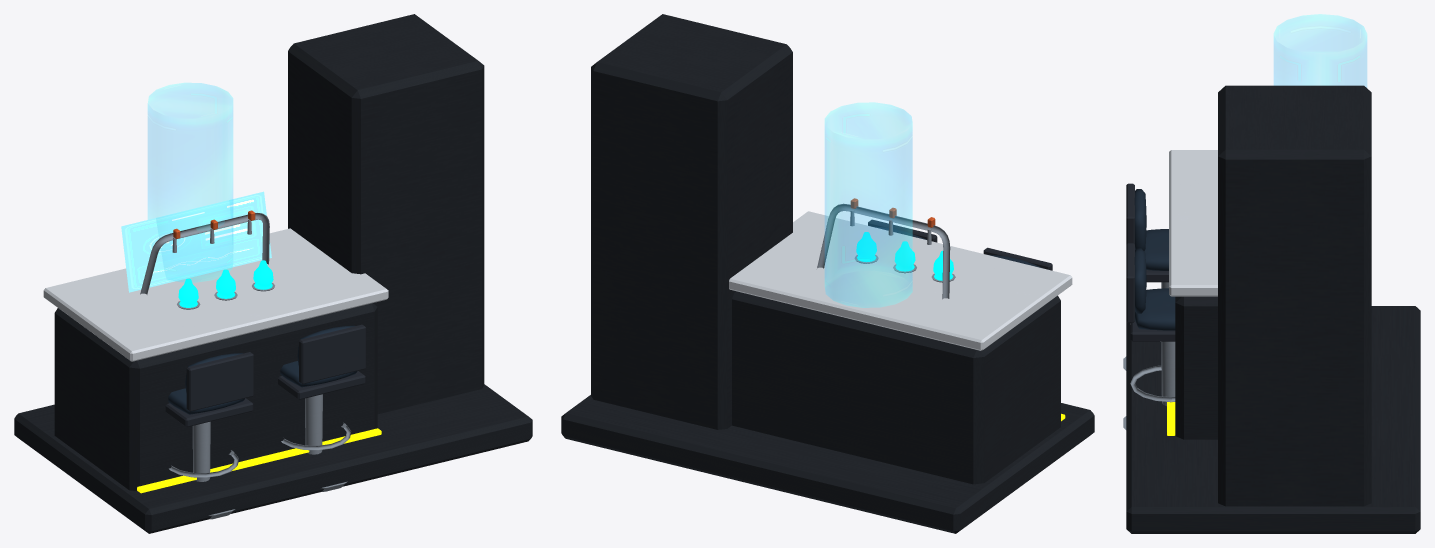
File: lounge_bar_r1_03.glb
3 renders of one model, left to right at view 1: azimuth 30°, elevation 25°; view 2: azimuth 150°, elevation 25°; view 3: azimuth 270°, elevation 25°, orthographic. The views are drawn at different scales.
Visible parts, largest first — view 1: Lounge03_CurvedStargazerGunmetalHull, Lounge03_AerospaceWhiteCounter, Lounge03_TranslucentLevitationColumnAndTower, Lounge03_OLEDCelestialConsole, Lounge03_CharcoalBolsters, Lounge03_MachinedSteelSiphonAndPedestals, Lounge03_OrbitalNavyBarstools, Lounge03_AmberDecantersAndFootrail, Lounge03_CyanSpheresAndGlasses; view 2: Lounge03_CurvedStargazerGunmetalHull, Lounge03_AerospaceWhiteCounter, Lounge03_TranslucentLevitationColumnAndTower, Lounge03_MachinedSteelSiphonAndPedestals, Lounge03_CyanSpheresAndGlasses, Lounge03_CharcoalBolsters; view 3: Lounge03_CurvedStargazerGunmetalHull, Lounge03_AerospaceWhiteCounter, Lounge03_TranslucentLevitationColumnAndTower, Lounge03_OrbitalNavyBarstools, Lounge03_CharcoalBolsters, Lounge03_MachinedSteelSiphonAndPedestals.
Boxes of the visible parts, x1,y1,x2,y2 form: Lounge03_CurvedStargazerGunmetalHull: (14,14,532,533); Lounge03_AerospaceWhiteCounter: (43,228,388,361); Lounge03_TranslucentLevitationColumnAndTower: (148,83,232,282); Lounge03_OLEDCelestialConsole: (121,191,271,292); Lounge03_CharcoalBolsters: (165,324,365,427); Lounge03_MachinedSteelSiphonAndPedestals: (140,213,351,519); Lounge03_OrbitalNavyBarstools: (168,325,357,414); Lounge03_AmberDecantersAndFootrail: (137,428,381,493); Lounge03_CyanSpheresAndGlasses: (178,260,273,307); Lounge03_CurvedStargazerGunmetalHull: (561,14,1094,533); Lounge03_AerospaceWhiteCounter: (729,211,1072,350); Lounge03_TranslucentLevitationColumnAndTower: (825,102,912,307); Lounge03_MachinedSteelSiphonAndPedestals: (817,203,955,299); Lounge03_CyanSpheresAndGlasses: (856,232,953,280); Lounge03_CharcoalBolsters: (868,219,1052,270); Lounge03_CurvedStargazerGunmetalHull: (1126,85,1420,533); Lounge03_AerospaceWhiteCounter: (1169,150,1217,296); Lounge03_TranslucentLevitationColumnAndTower: (1274,14,1366,87); Lounge03_OrbitalNavyBarstools: (1134,189,1175,330); Lounge03_CharcoalBolsters: (1126,183,1175,341); Lounge03_MachinedSteelSiphonAndPedestals: (1123,282,1175,429).
Bounding box in the file's own units: 2.28 × 1.97 × 1.39.
12 materials, 12 textured.
